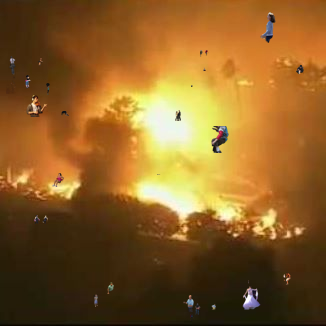Human: (260, 12, 276, 43), (211, 126, 229, 153), (26, 95, 48, 117), (242, 285, 261, 310), (6, 75, 31, 94), (195, 303, 219, 315), (183, 295, 194, 312), (52, 173, 64, 187), (9, 56, 16, 75), (281, 272, 291, 285), (34, 215, 48, 224), (107, 282, 114, 294), (296, 65, 304, 74), (175, 110, 181, 121), (93, 294, 98, 307), (200, 50, 209, 57), (46, 83, 50, 95), (37, 58, 43, 66), (61, 111, 69, 116), (190, 314, 194, 321), (203, 67, 206, 71), (157, 174, 161, 175), (248, 280, 249, 284), (191, 85, 193, 87), (51, 112, 52, 115)
